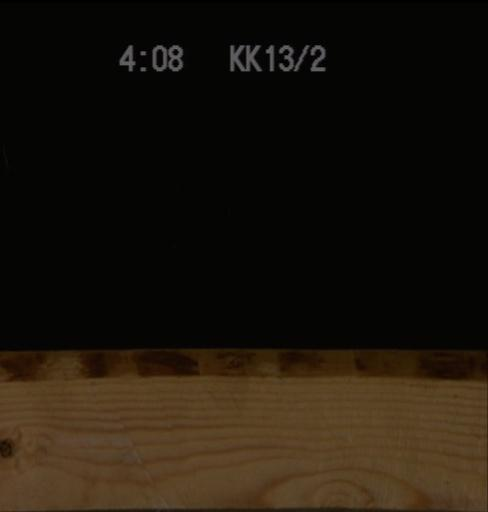dry_knot: (0, 435, 11, 458)
wave: (0, 348, 486, 392)
